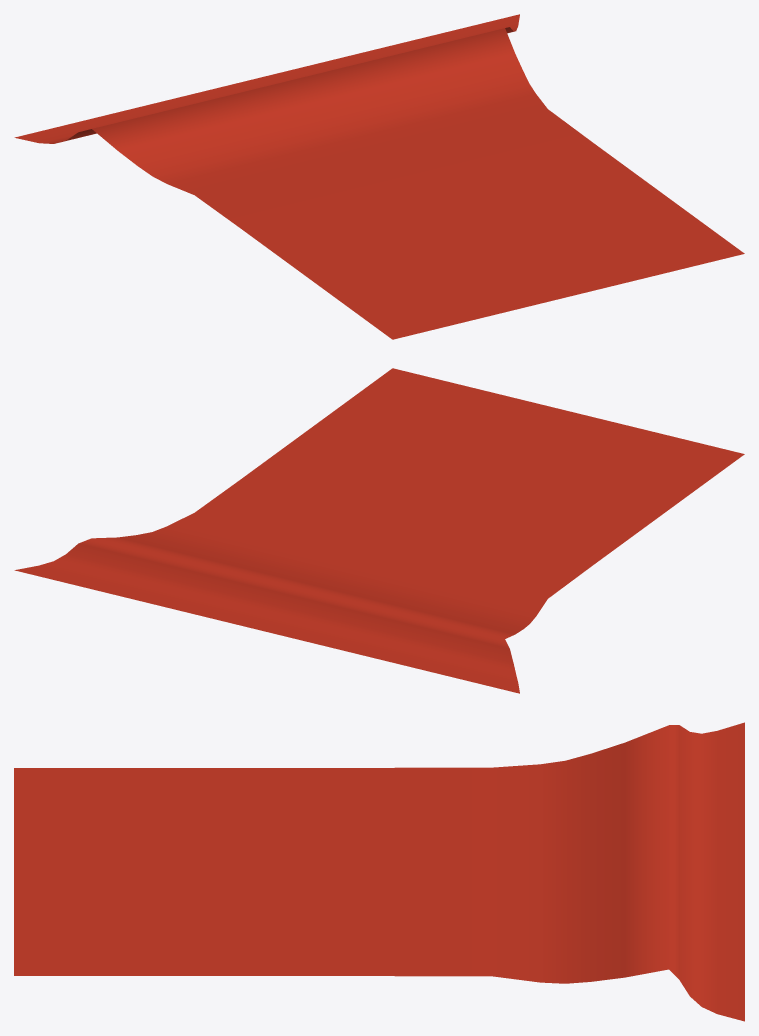
Rendered from carpet_plane_end.fbx.
3 renders of one model, top to bottom at view 1: azimuth 30°, elevation 25°; view 2: azimuth 150°, elevation 25°; view 3: azimuth 270°, elevation 25°, orthographic. The views are drawn at different scales.
Visible parts, largest first — view 1: carpet_plane_end; view 2: carpet_plane_end; view 3: carpet_plane_end.
Boxes of the visible parts, x1,y1,x2,y2 form: carpet_plane_end: (14,14,744,339); carpet_plane_end: (14,368,744,693); carpet_plane_end: (14,722,744,1021).
Bounding box in the file's own units: 287 × 11.71 × 297.
